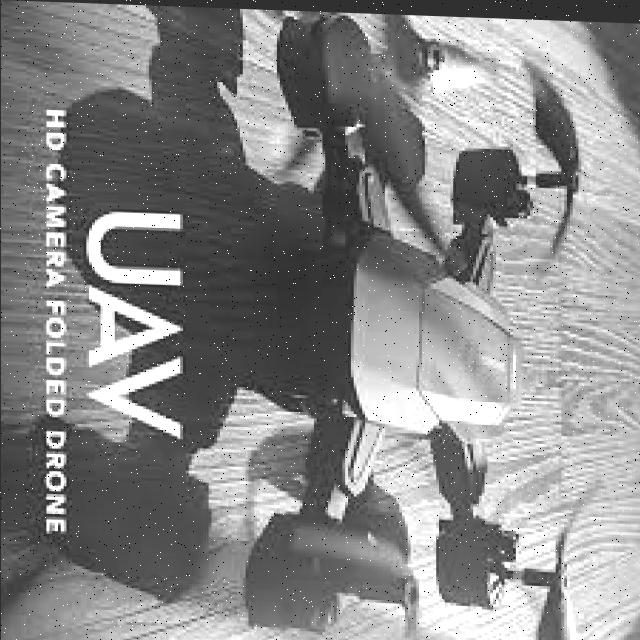drone: (245, 7, 598, 640)
